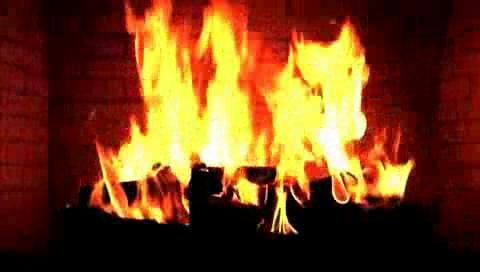fire: (69, 0, 475, 229)
